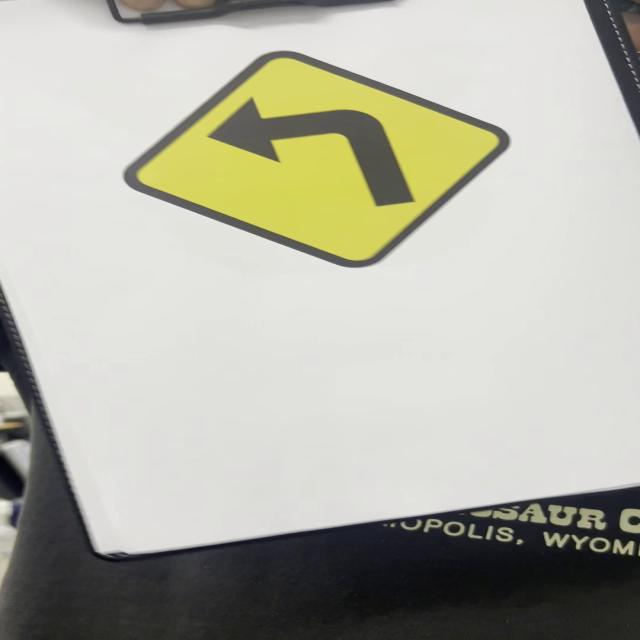left: (126, 43, 513, 266)
